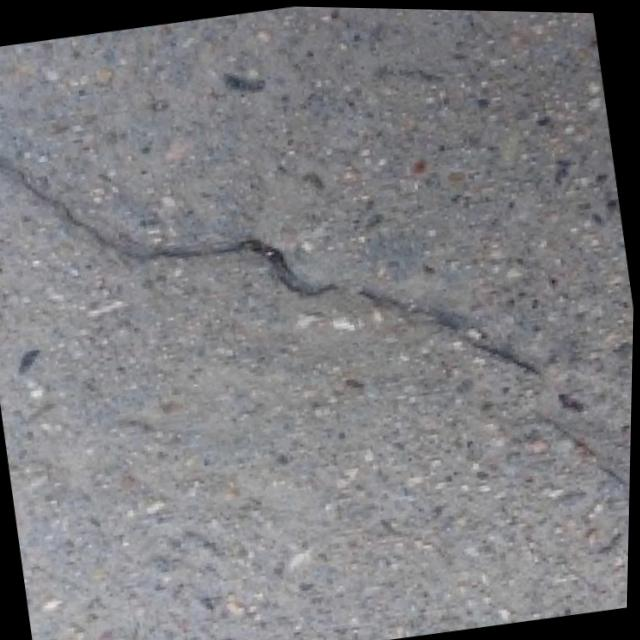Crack: (0, 39, 610, 537)
